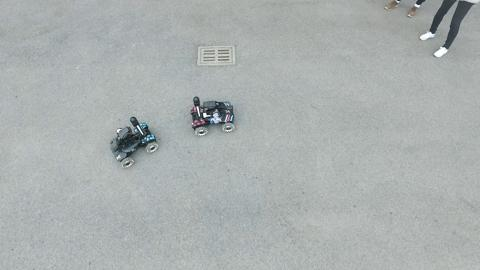chariot: (105, 114, 161, 166), (188, 94, 237, 137)
